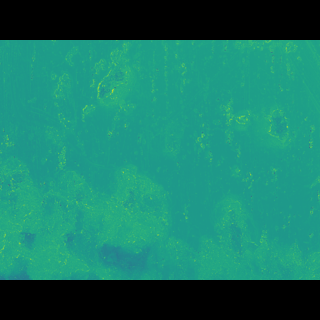Loch: (0, 151, 320, 250), (42, 75, 146, 148)
